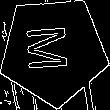M_E: (28, 25, 80, 76)
